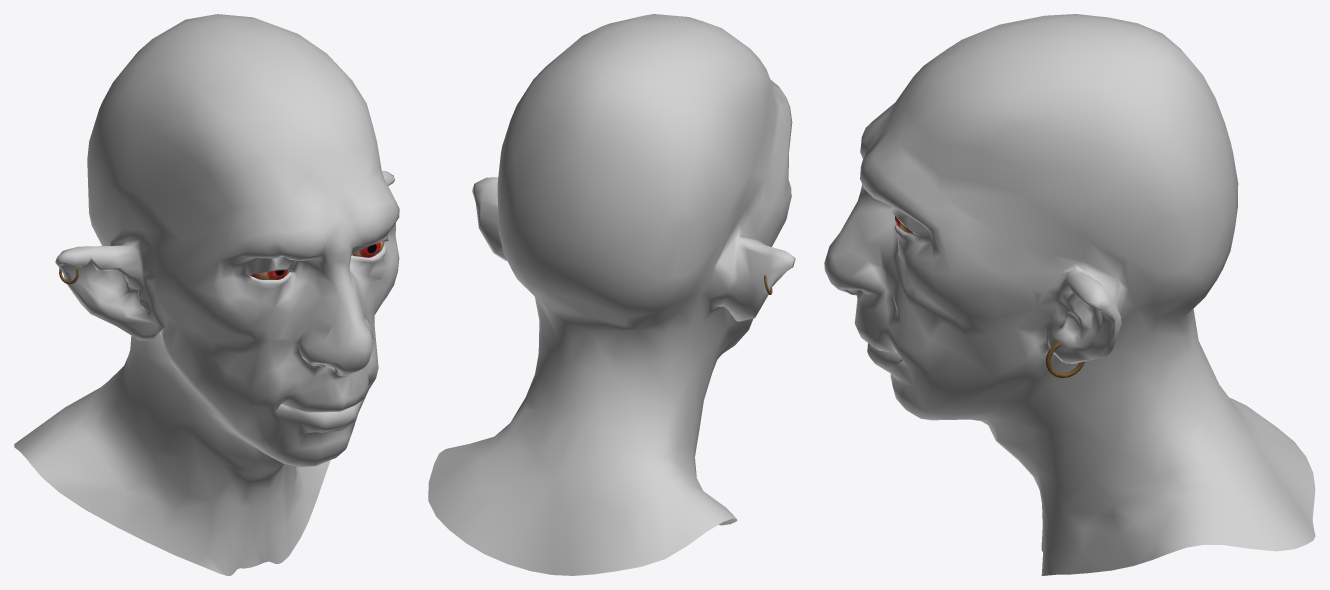
The model's file is GoblinX.obj.
3 views of the same model, side by side, from view 1: azimuth 30°, elevation 25°; view 2: azimuth 150°, elevation 25°; view 3: azimuth 270°, elevation 25° (orthographic). The views are drawn at different scales.
Parts seen in each view (by area): view 1: Goblin, GoblinEyes; view 2: Goblin; view 3: Goblin.
Boxes of the visible parts, x1=… form: Goblin: x1=14, y1=14, x2=399, y2=575; GoblinEyes: x1=250, y1=241, x2=383, y2=279; Goblin: x1=428, y1=14, x2=795, y2=575; Goblin: x1=824, y1=14, x2=1315, y2=575.
Bounding box in the file's own units: 10.36 × 15.39 × 12.79.
